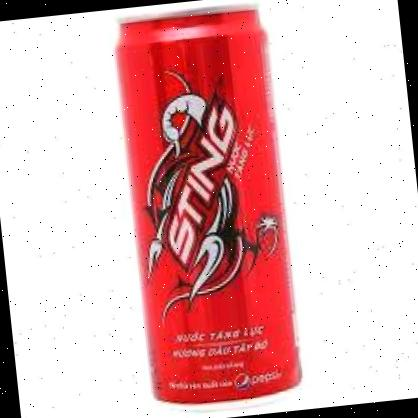can: (108, 0, 307, 414)
